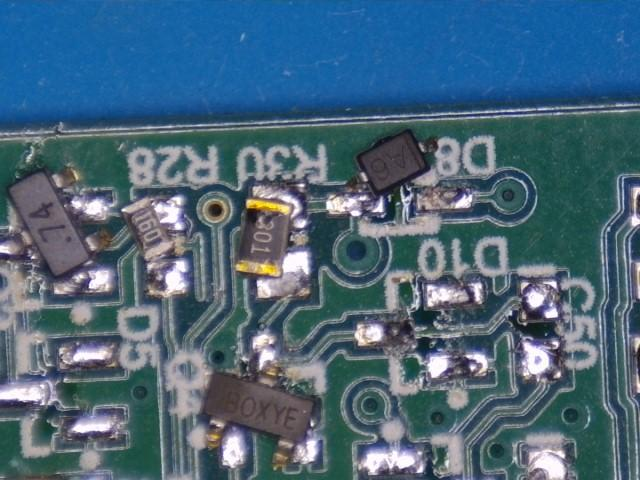Incorrect_installation: (201, 336, 318, 469), (1, 166, 114, 294), (329, 130, 439, 215), (235, 184, 311, 299), (119, 196, 187, 297)
